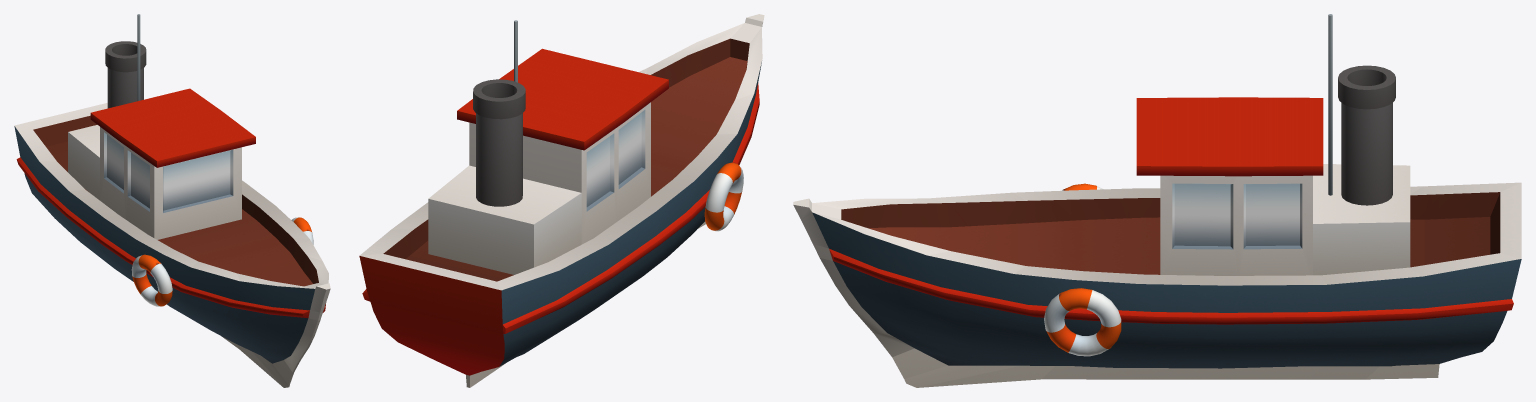
Rendered from boat_v1.fbx.
3 views of the same model, side by side, from view 1: azimuth 30°, elevation 25°; view 2: azimuth 150°, elevation 25°; view 3: azimuth 270°, elevation 25° (orthographic). The views are drawn at different scales.
Visible parts, largest first — view 1: boat; view 2: boat; view 3: boat.
Part boxes in pixels (x1,y1,x2,y2): boat: (14, 14, 330, 387); boat: (359, 14, 764, 387); boat: (793, 14, 1521, 387).
Size of the model in its own units: 2.62 by 3.99 by 7.05.
